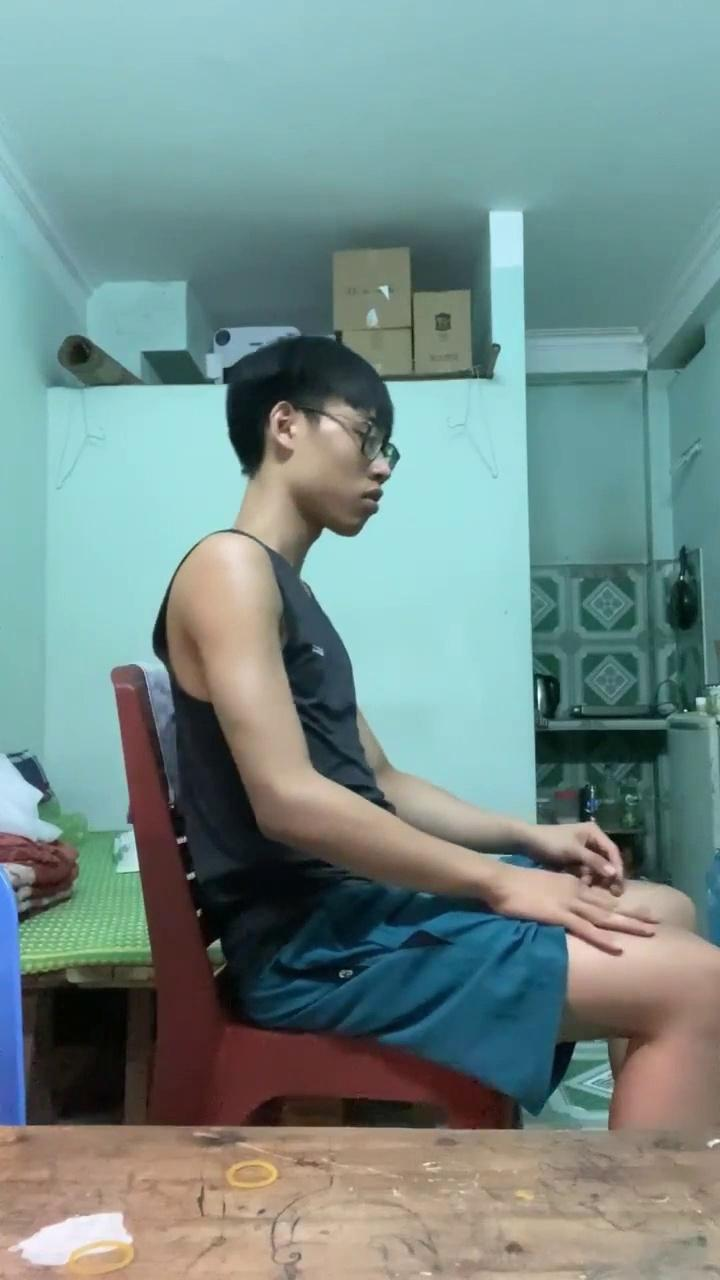GoodPosture: (168, 338, 719, 1038)
